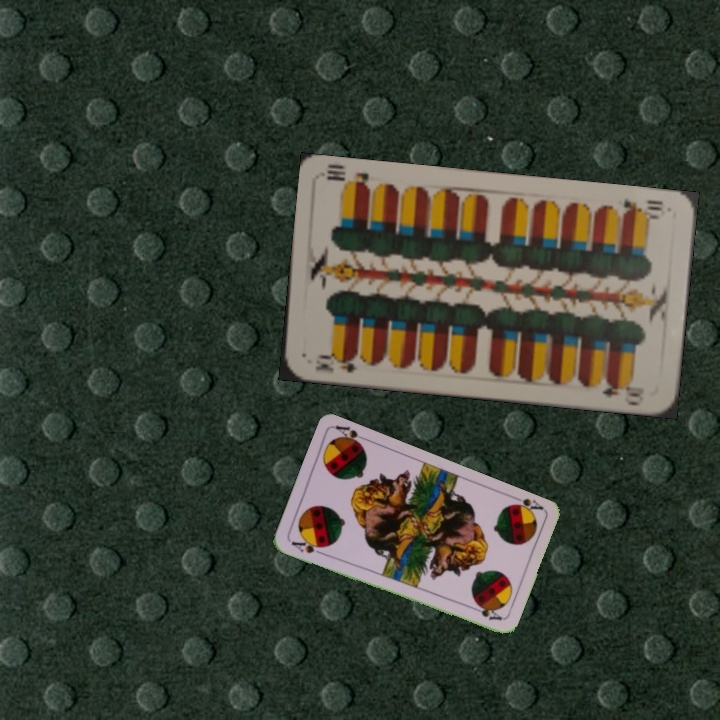E10: (311, 349, 365, 377), (619, 194, 666, 222)
SA: (504, 491, 546, 518), (287, 536, 328, 557)
